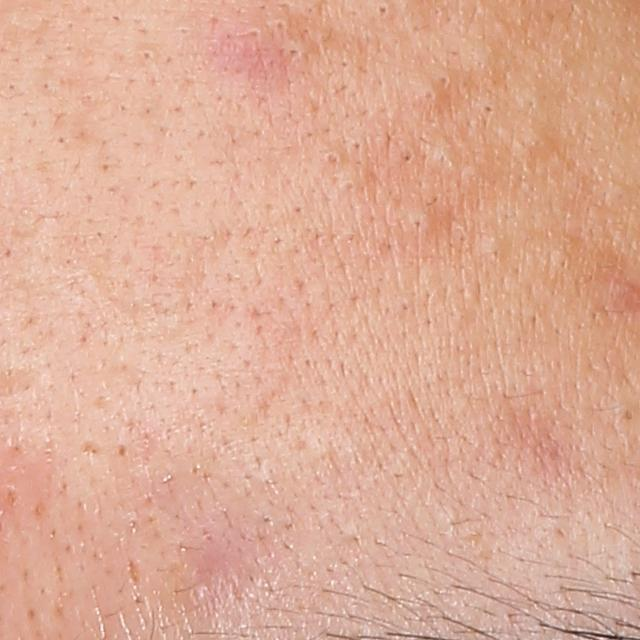atrophic_scar: (124, 555, 142, 590)
comedo: (403, 208, 436, 235), (484, 235, 507, 260), (268, 11, 290, 36), (478, 99, 501, 120), (321, 147, 342, 168), (137, 44, 156, 65)
